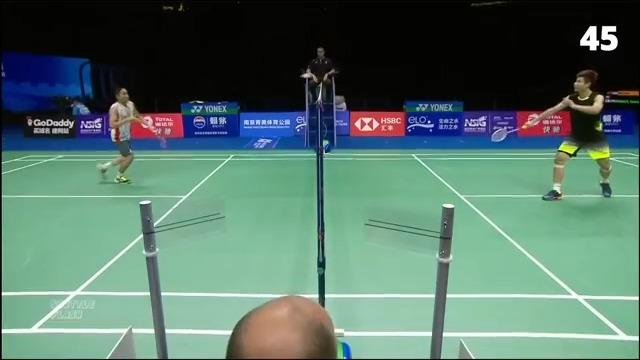Shuttlecock: (298, 70, 314, 80)
